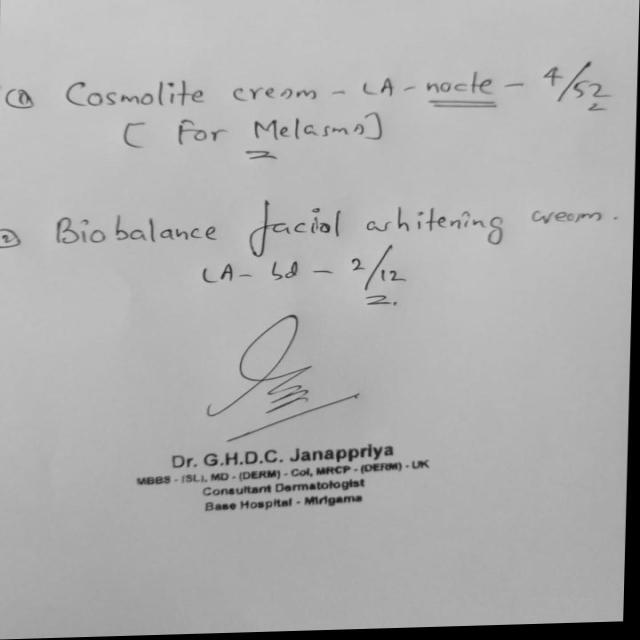Prescription: (58, 193, 606, 293), (66, 62, 616, 116)
